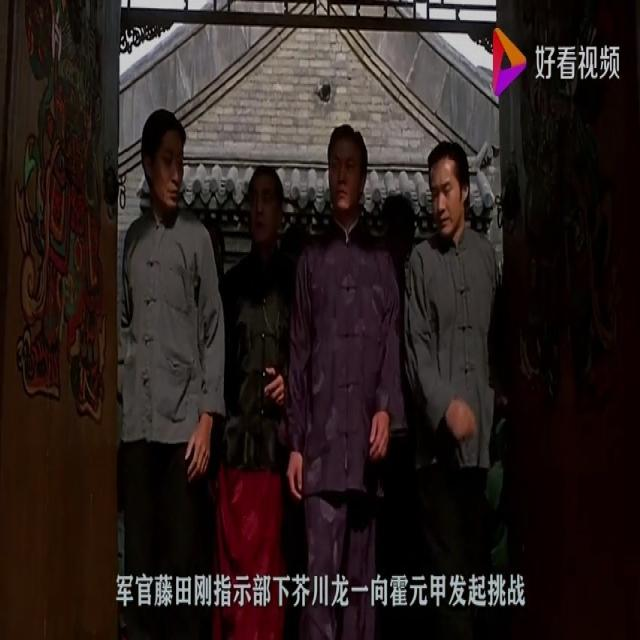non-fight: (286, 120, 410, 640), (119, 100, 233, 627), (403, 134, 501, 640)
